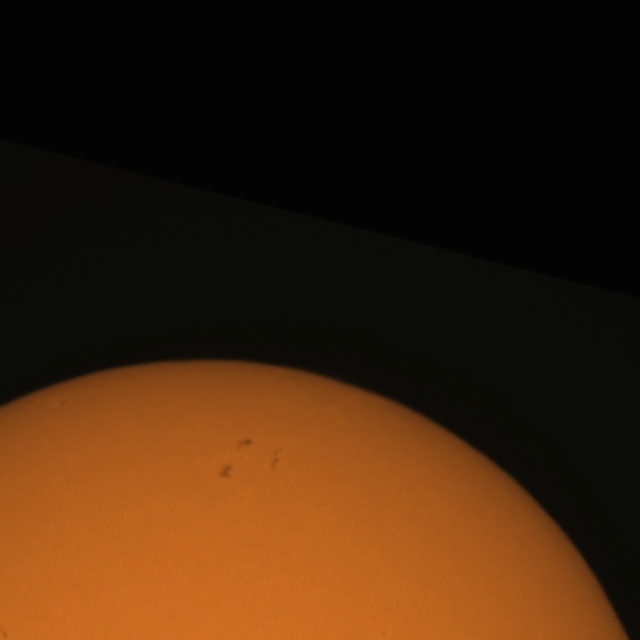sunspot: (217, 440, 255, 480), (229, 435, 255, 466), (269, 444, 286, 472), (216, 461, 235, 481), (235, 436, 254, 453), (0, 627, 10, 640), (380, 628, 388, 637)
